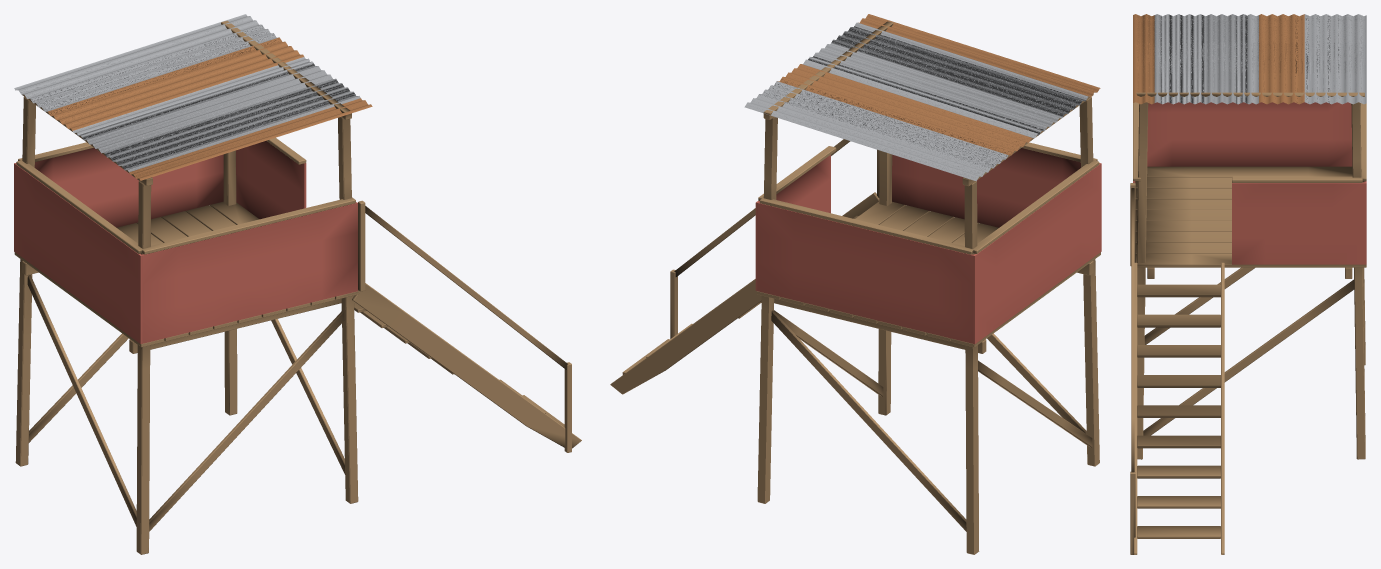
Rendered from stand.glb.
The picture shows the model from 3 angles, left to right: view 1: azimuth 30°, elevation 25°; view 2: azimuth 150°, elevation 25°; view 3: azimuth 270°, elevation 25°; orthographic projection. The views are drawn at different scales.
Parts seen in each view (by area): view 1: PART; view 2: PART; view 3: PART.
Part boxes in pixels (x1=…): PART: x1=14, y1=14, x2=581, y2=554; PART: x1=610, y1=14, x2=1101, y2=554; PART: x1=1130, y1=14, x2=1366, y2=554.
Size of the model in its own units: 5.24 by 4.46 by 2.63.
